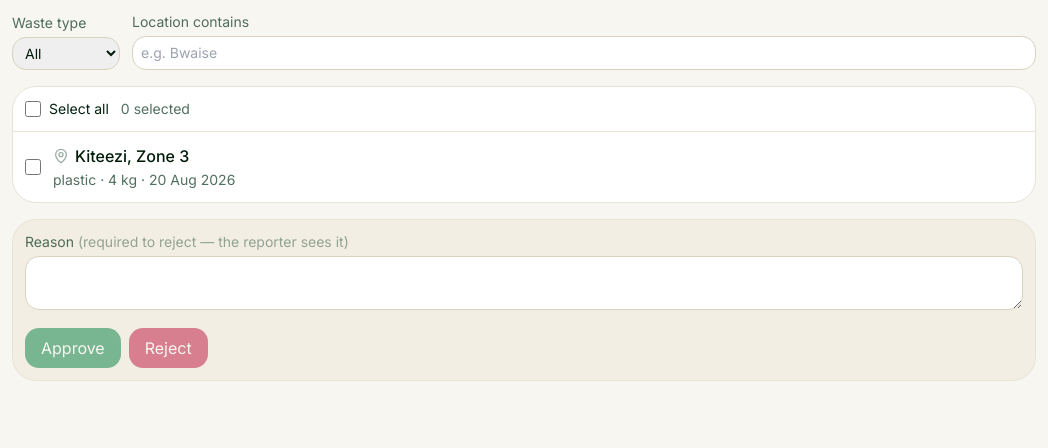
it: SupervisorInboxView › after a review › reports how many were reviewed
This screenshot has width=1048, height=448.
Click the checkbox named "Select report 1" at [33, 167], box [25,159,41,175]
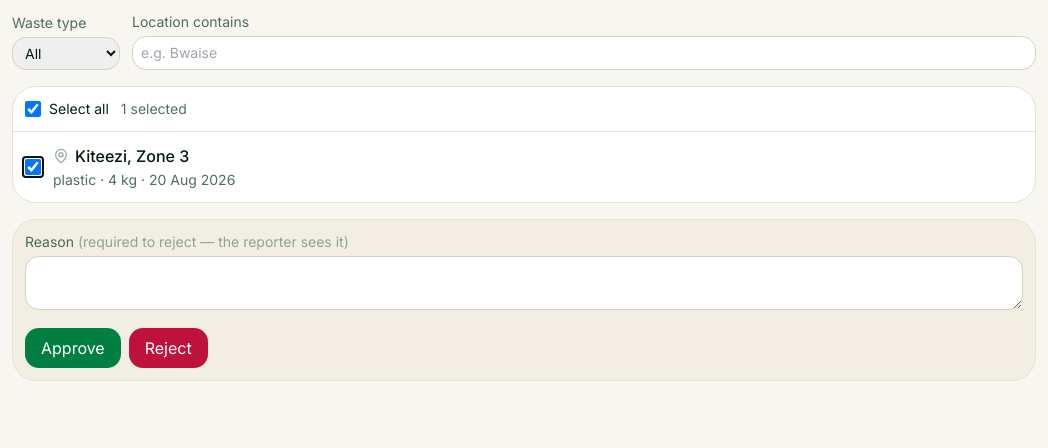
Click the button "Approve" at [73, 348], box [25,328,121,368]
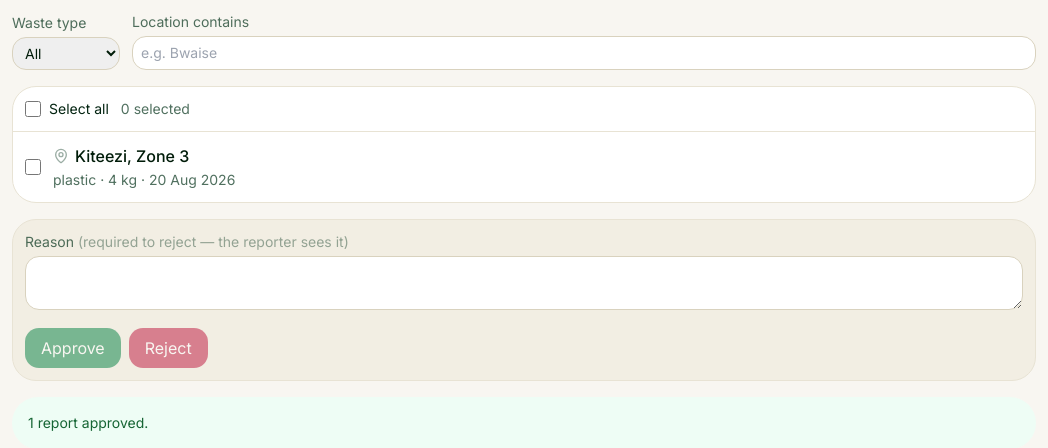
Now the message shows "1 report", box [28,414,148,431]
